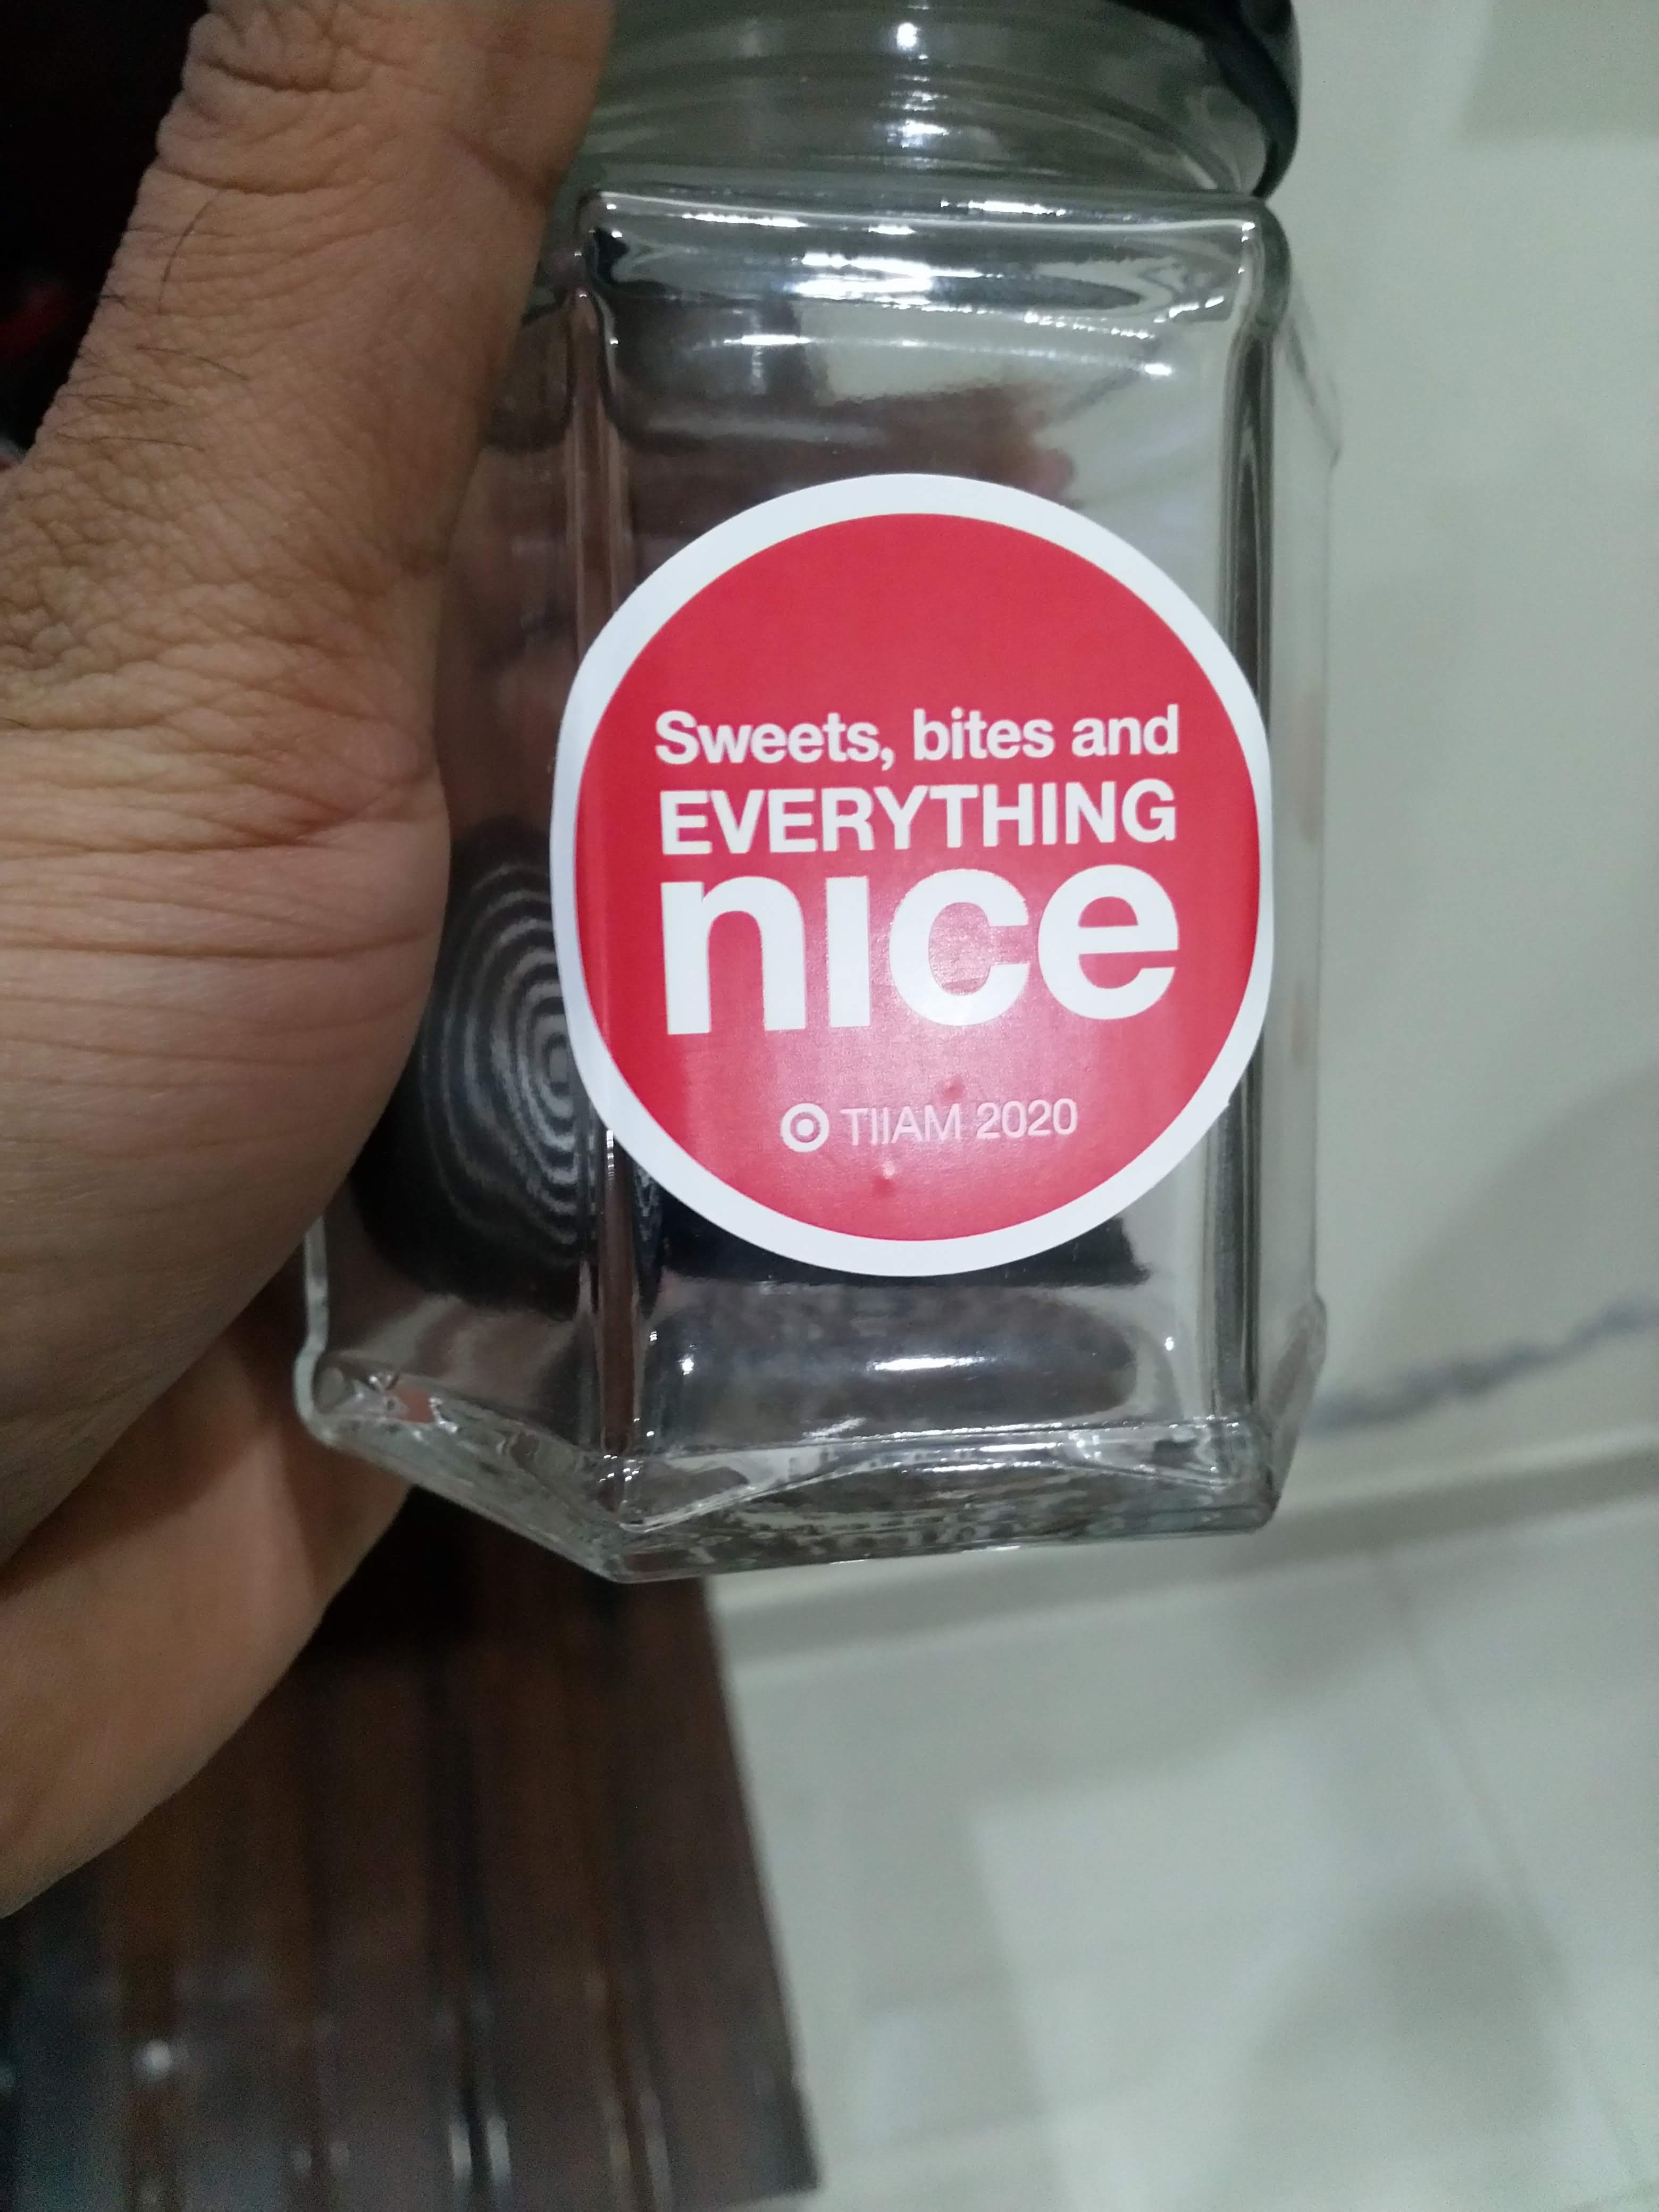bullseye: (767, 1090, 843, 1179)
